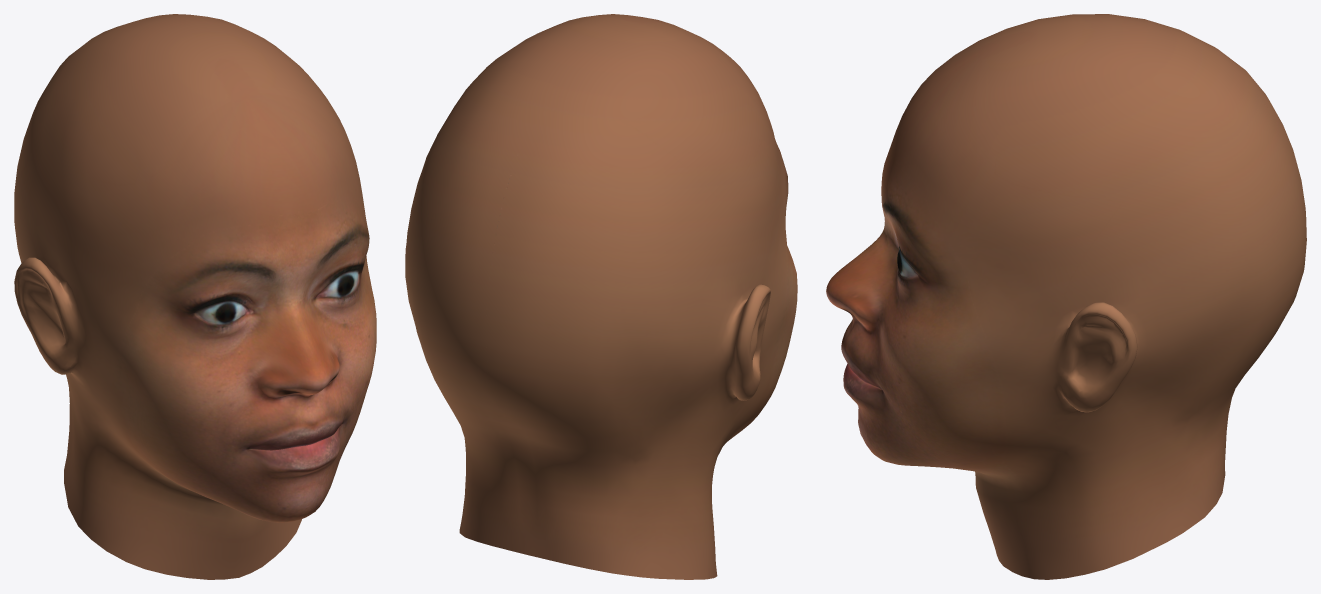
Rendered from v332_obj_ModifierBrowInRight.obj.
The picture shows the model from 3 angles, left to right: view 1: azimuth 30°, elevation 25°; view 2: azimuth 150°, elevation 25°; view 3: azimuth 270°, elevation 25°; orthographic projection. The views are drawn at different scales.
Visible parts, largest first — view 1: HeadHires; view 2: HeadHires; view 3: HeadHires.
Part boxes in pixels (x1,y1,x2,y2): HeadHires: (14, 14, 376, 579); HeadHires: (405, 14, 797, 579); HeadHires: (826, 14, 1306, 579).
Bounding box in the file's own units: 187 × 282 × 233.
